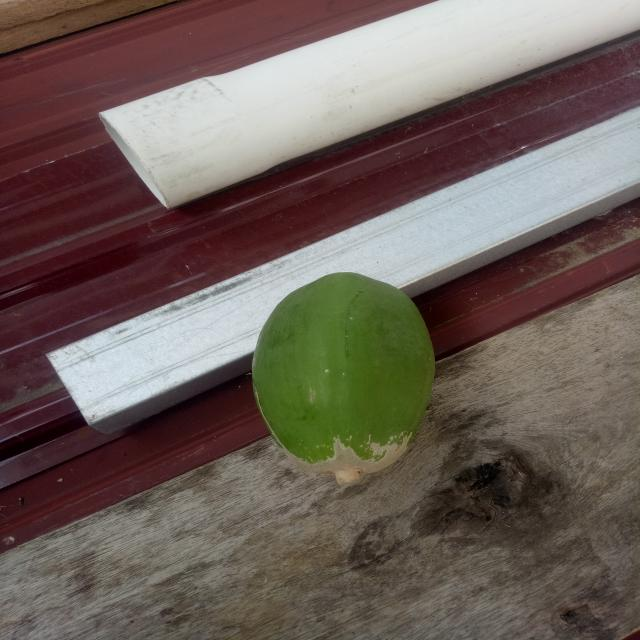Pepaya unrippen: (254, 267, 442, 484)
